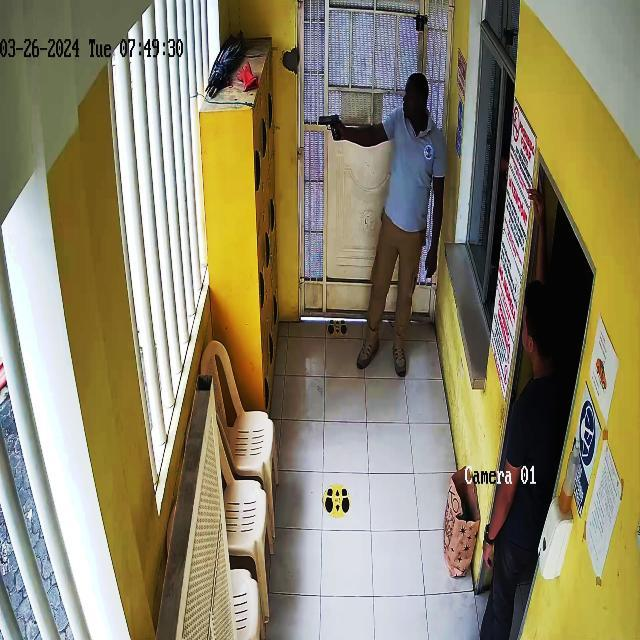Gun: (316, 102, 346, 142)
